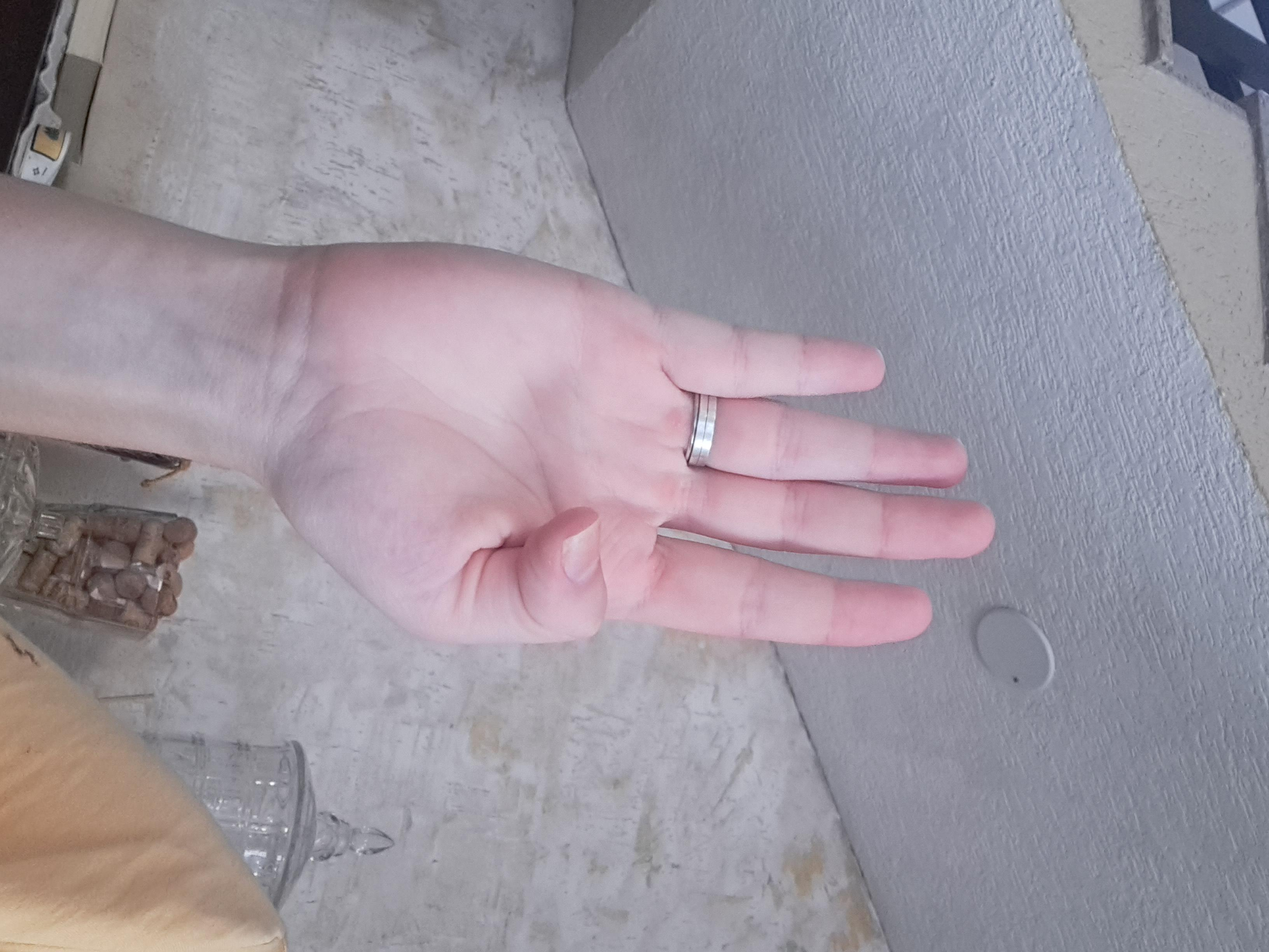B: (321, 192, 897, 770)
